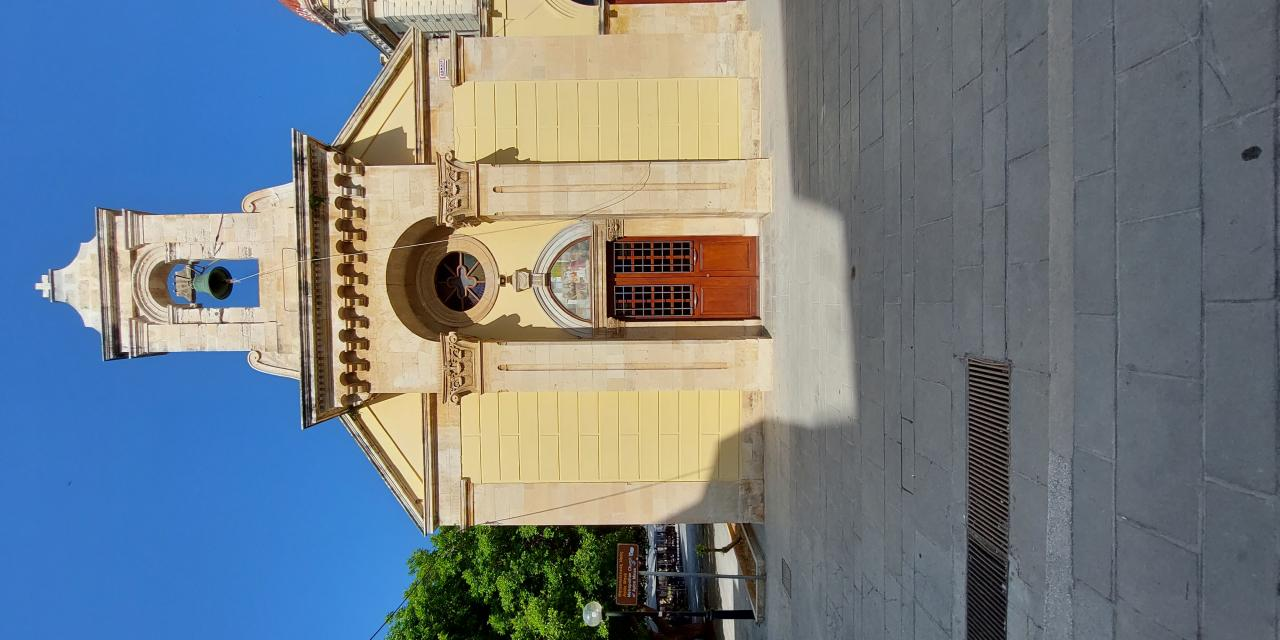Agios Minas: (69, 1, 577, 640)
